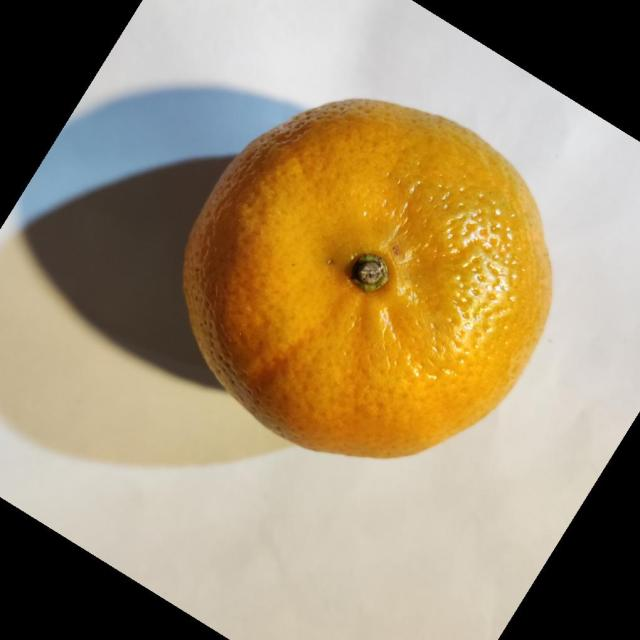fresh orange: (181, 97, 553, 459)
